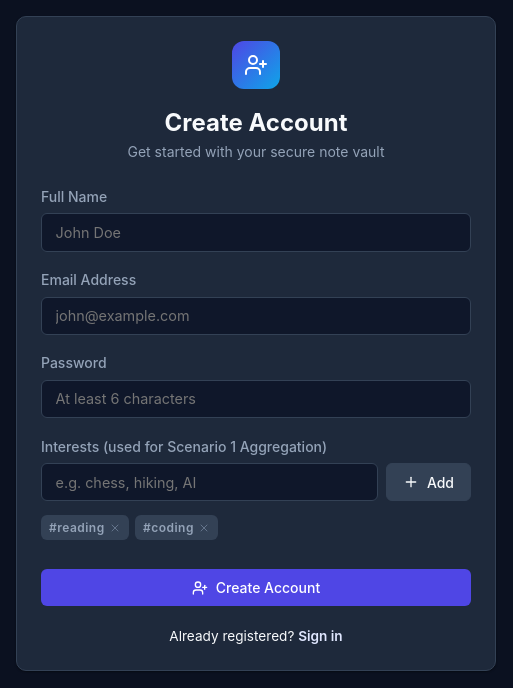
Test: RegisterPage Component › should allow adding new interest tags via button and enter key, and removing tags
// Add via button click
In the field with placeholder "e.g. chess, hiking, AI": (209, 482) [41,463,378,501], type "gaming"
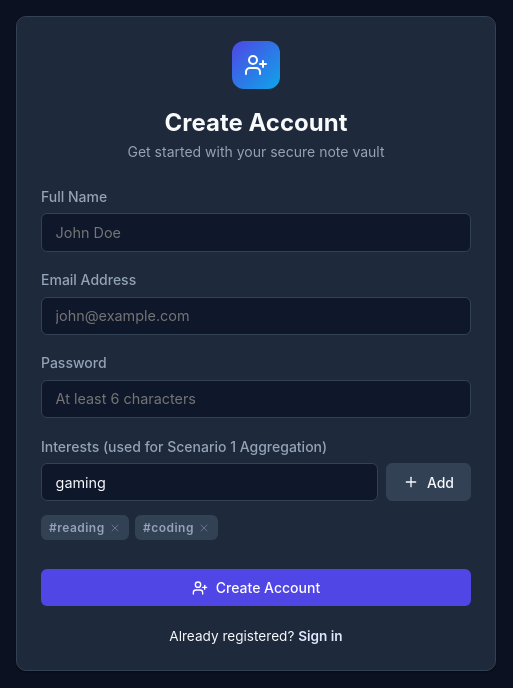
Click the button "Add": (428, 482) [386,463,471,501]
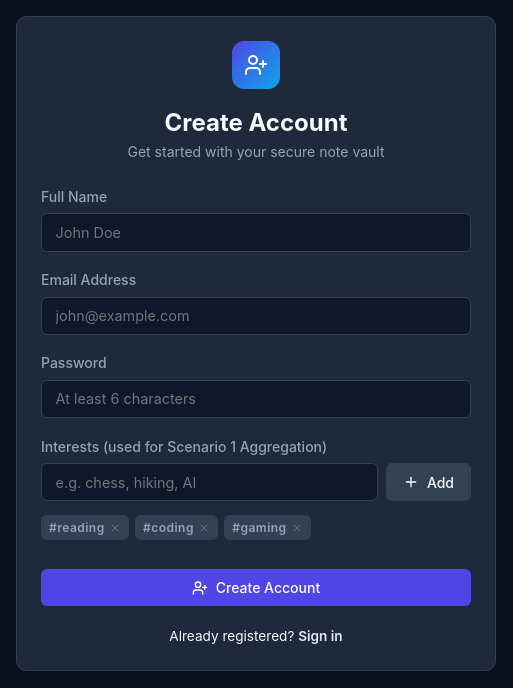
Now the text "#gaming" is shown, box [224,516,311,540]
// Add via enter key
In the field with placeholder "e.g. chess, hiking, AI": (209, 482) [41,463,378,501], type "robotics"
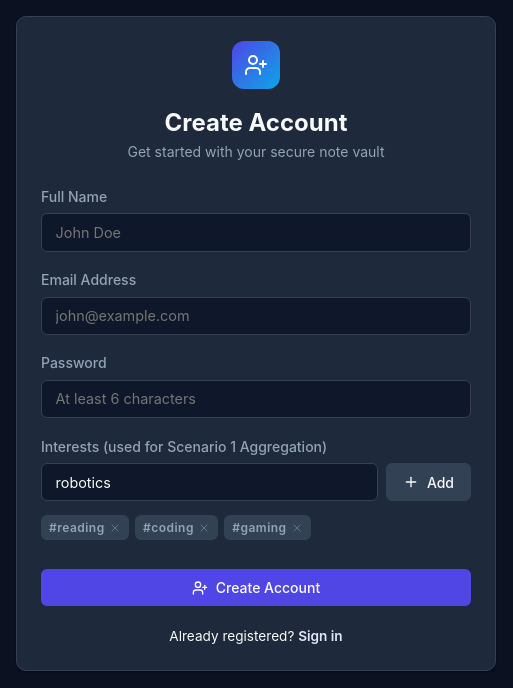
Press Enter in the field with placeholder "e.g. chess, hiking, AI", box [41,463,378,501]
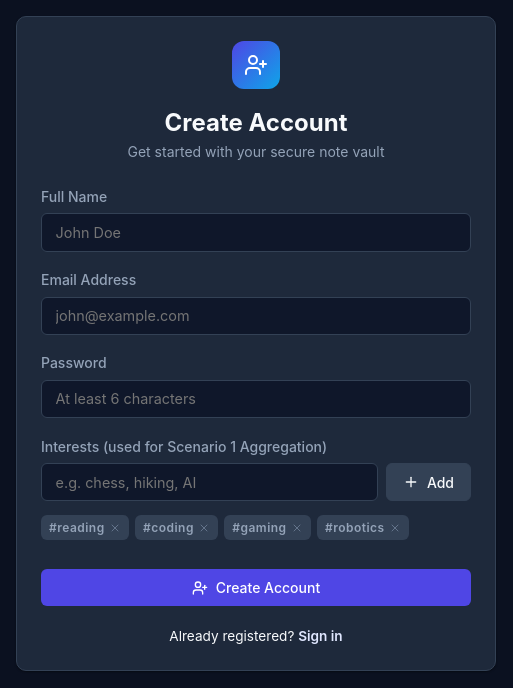
Now the text "#robotics" is shown, box [317,516,409,540]
Click the button without text next to "reading": (115, 528) [109,522,121,534]
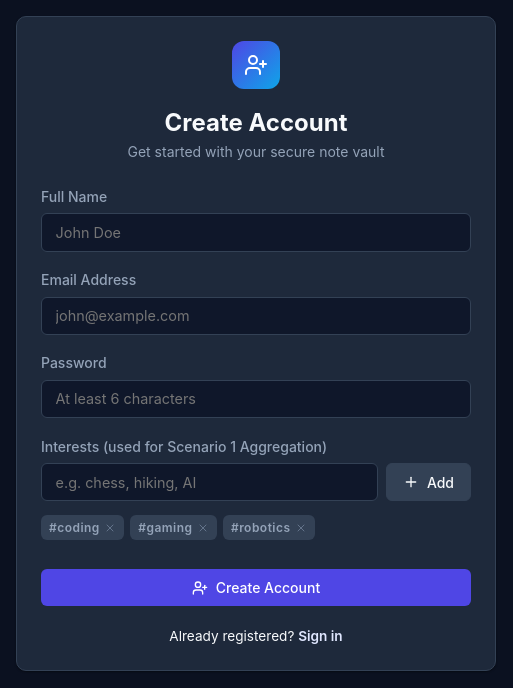
Now the text "#reading" is gone
